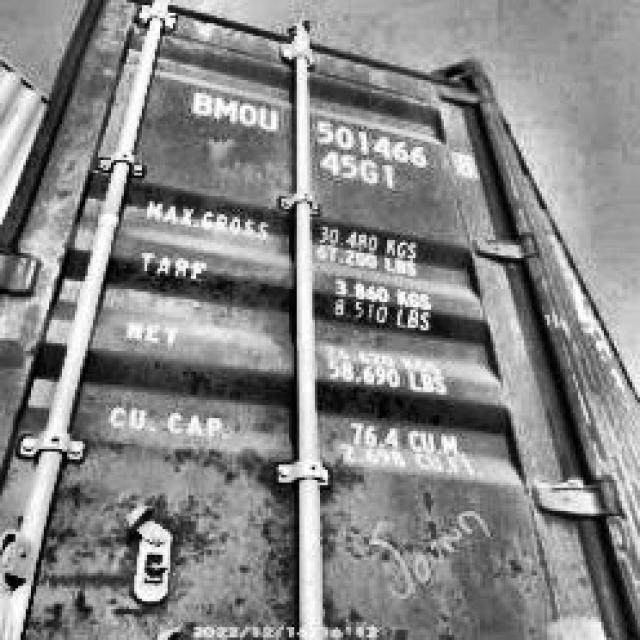ISO: (307, 146, 415, 198)
container_number: (184, 76, 486, 176)
